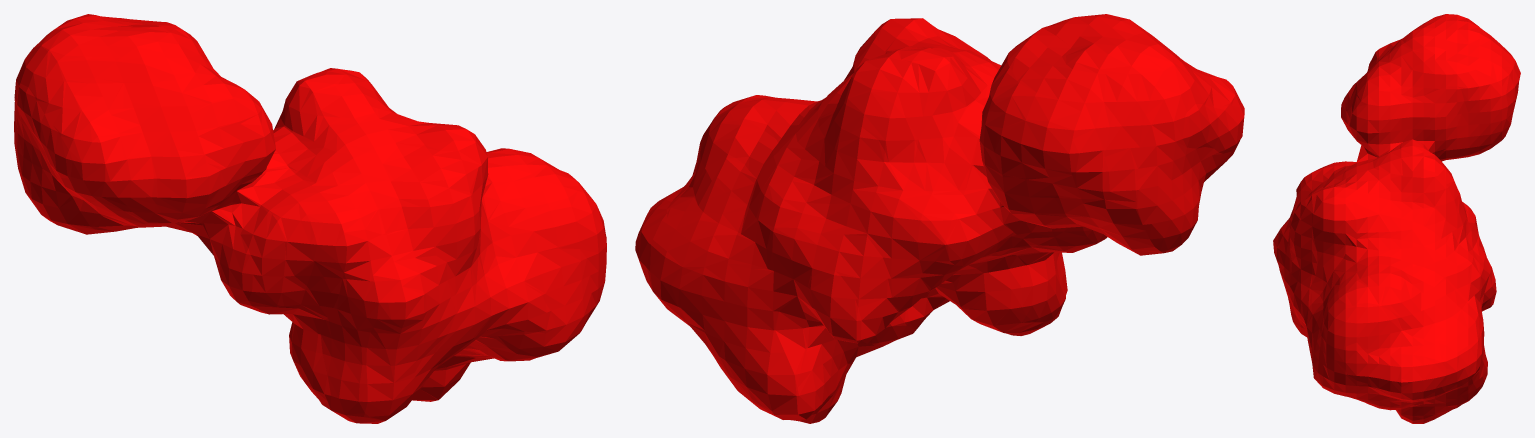
The model's file is rsuA_coarse.dae.
3 renders of one model, left to right at view 1: azimuth 30°, elevation 25°; view 2: azimuth 150°, elevation 25°; view 3: azimuth 270°, elevation 25°, orthographic. The views are drawn at different scales.
Parts seen in each view (by area): view 1: rsuA; view 2: rsuA; view 3: rsuA.
Boxes of the visible parts, <box> form: rsuA: <box>14,14,606,423</box>; rsuA: <box>635,14,1244,423</box>; rsuA: <box>1273,14,1520,423</box>.
Size of the model in its own units: 76.16 by 58.95 by 44.51.
